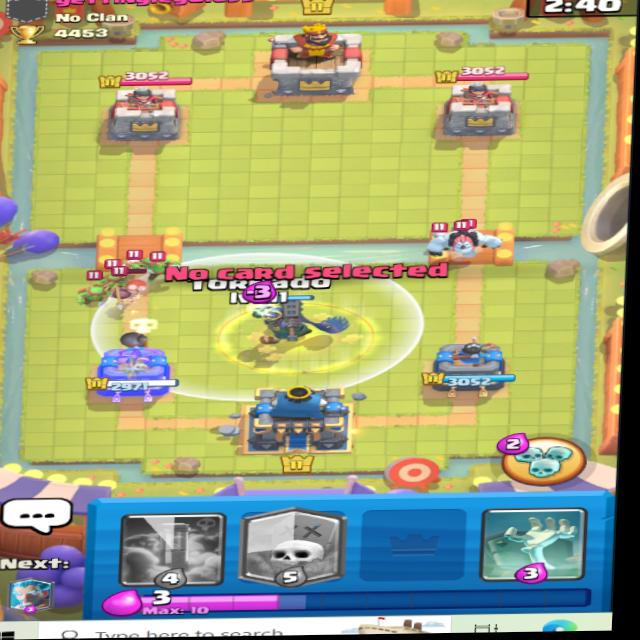bomber: (115, 269, 157, 305)
ice-golem: (422, 216, 502, 257)
skeleton: (423, 218, 450, 242), (124, 248, 146, 272)
spear-goblin: (92, 257, 134, 290), (145, 252, 178, 286), (82, 279, 116, 305)
